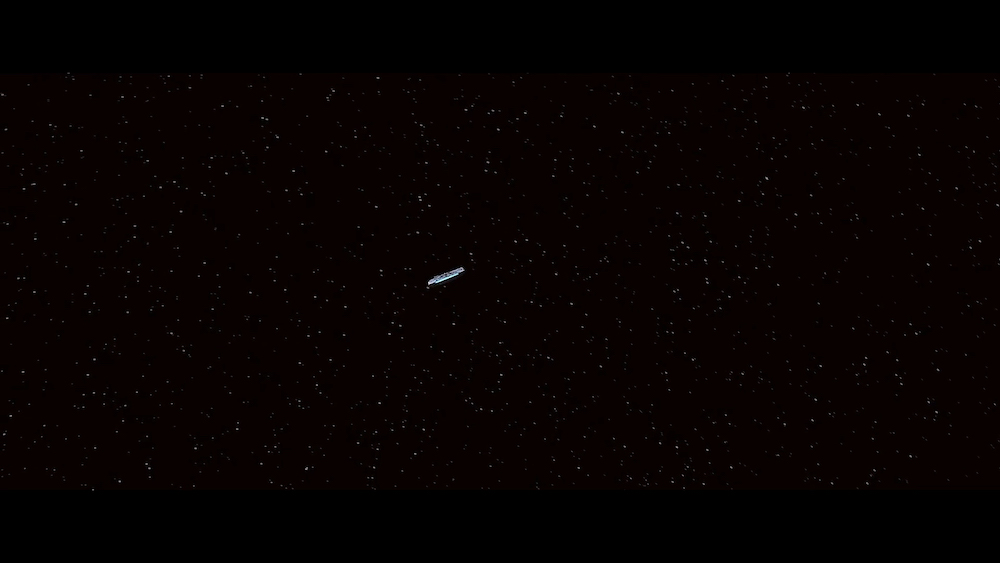Millennium Falcon: (429, 268, 466, 289)
